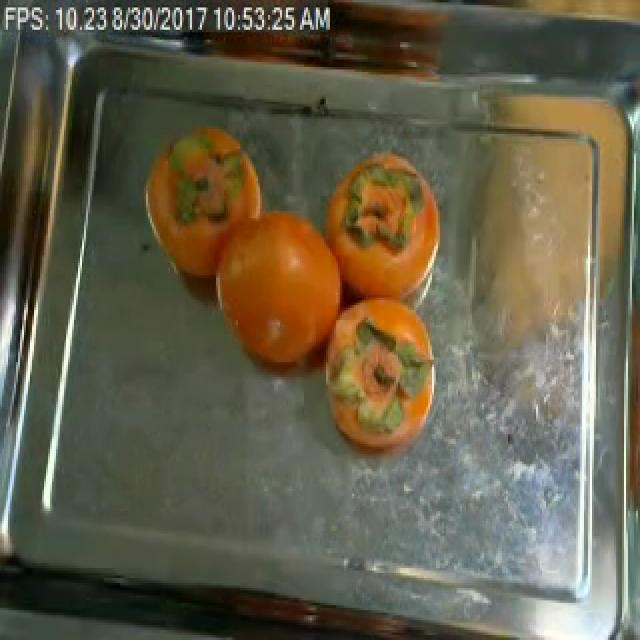Fruit: (130, 107, 274, 305), (316, 0, 468, 104)
